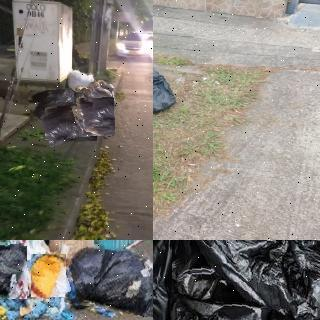Garbage: (167, 240, 320, 320), (66, 243, 153, 313), (43, 104, 99, 144), (28, 252, 69, 299), (153, 58, 184, 116), (29, 89, 75, 125), (0, 244, 28, 300), (77, 97, 114, 137), (67, 69, 96, 92)
